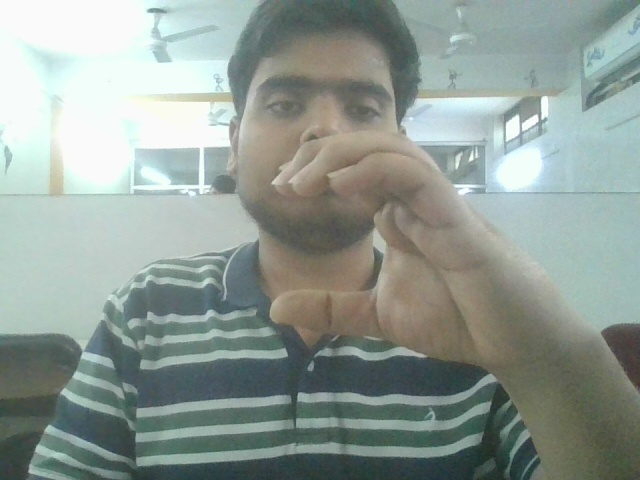No: (245, 131, 589, 376)
